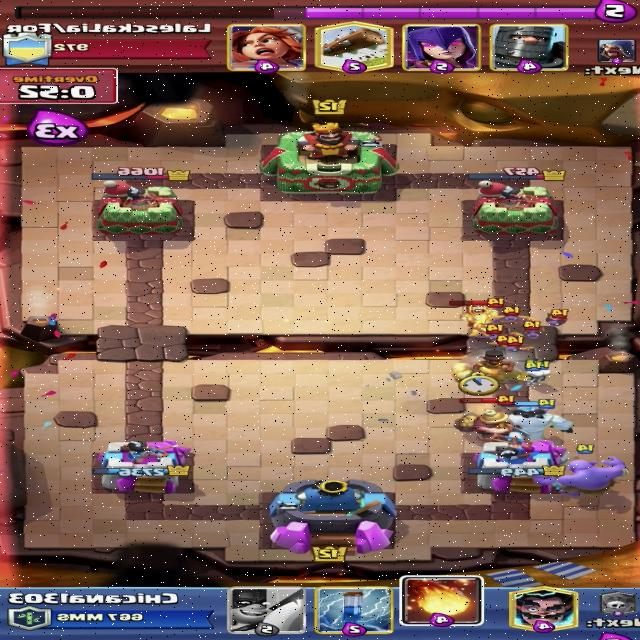Enemy-Bat: (486, 306, 536, 322), (469, 324, 522, 339), (488, 337, 536, 352), (546, 309, 571, 326), (522, 321, 546, 338)
Enemy-Miner: (453, 394, 529, 440)
Enemy-RamRider: (469, 335, 517, 383)
Enemy-Wizard: (449, 297, 507, 331)
Player-Bowler: (534, 444, 628, 493)
Player-IceGolem: (498, 398, 573, 438)
Player-Skeleton: (516, 360, 544, 386), (530, 360, 552, 385)
